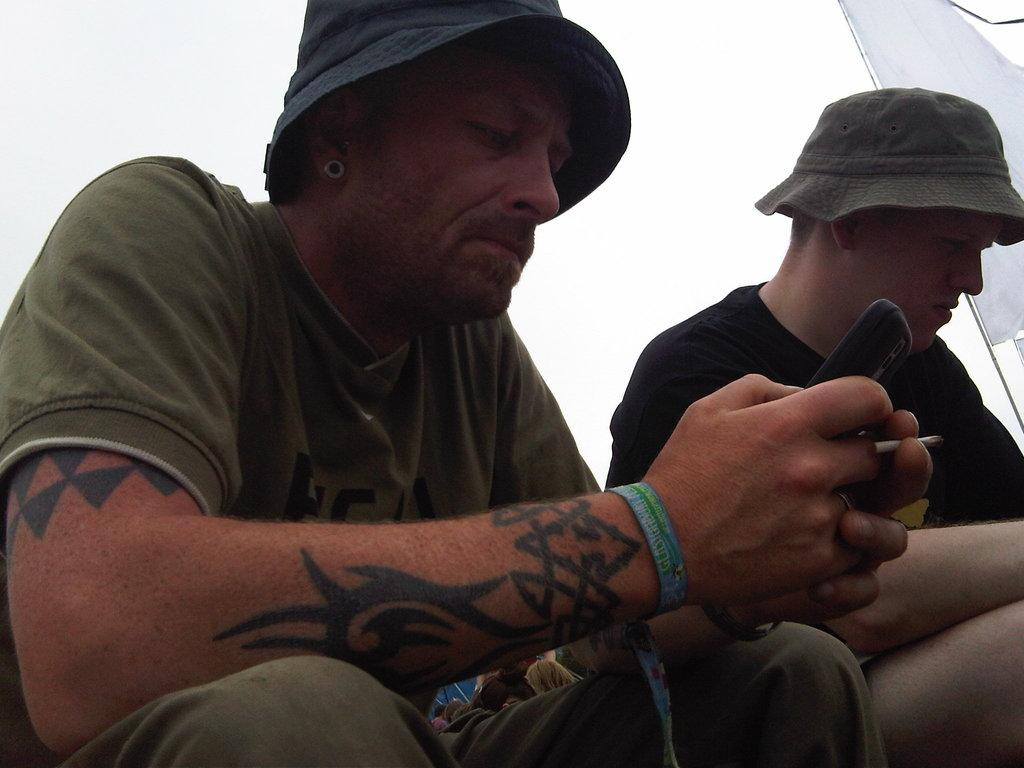Hat: (265, 0, 630, 203), (750, 87, 1021, 247)
